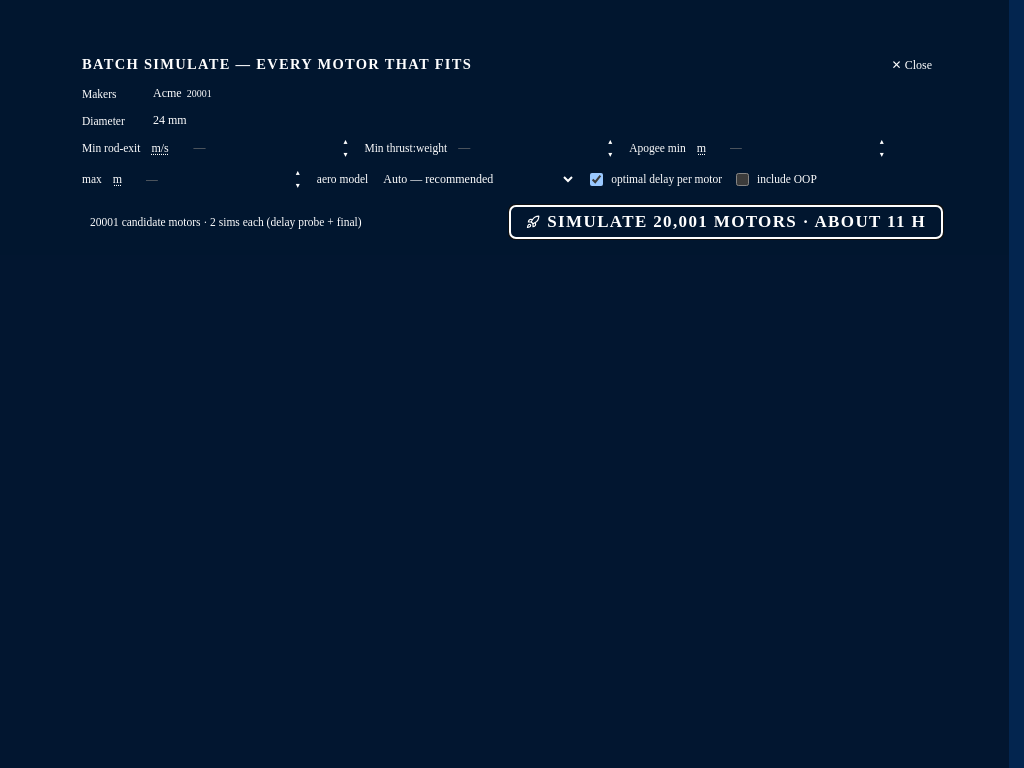
large batch confirmation › Cancel keeps settings, restores focus, and requires a fresh confirmation
Click the button with class "launch-btn" at (726, 222), box [510,206,942,238]
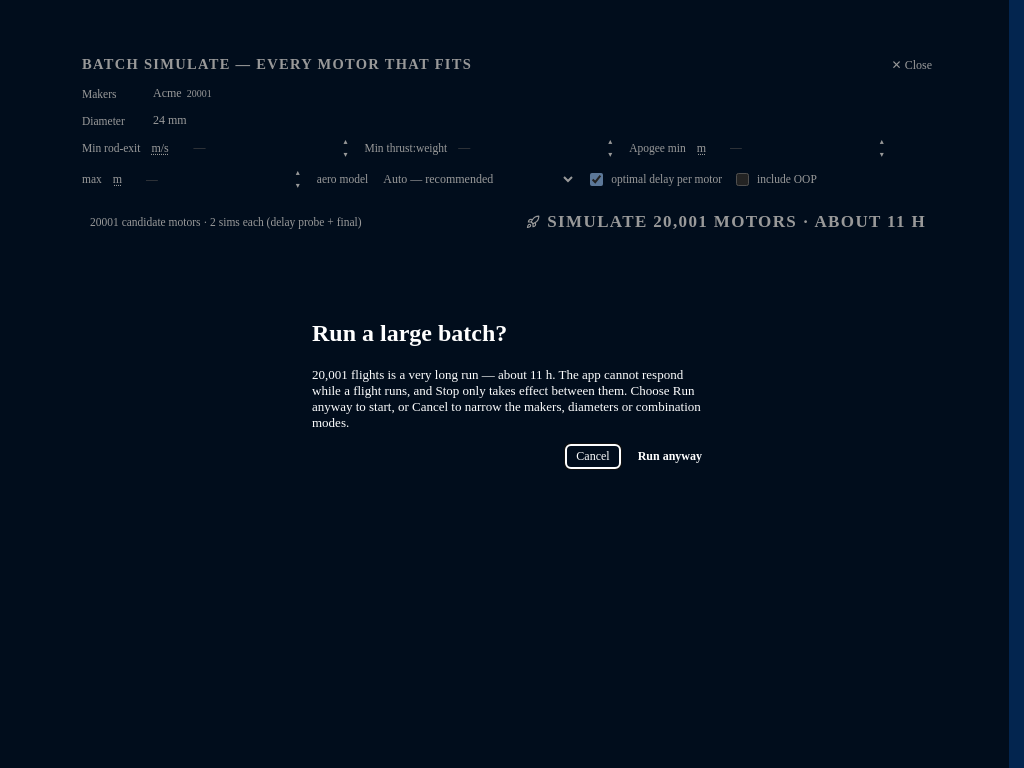
Click the button "Cancel" at (593, 456), box [566,445,620,468]
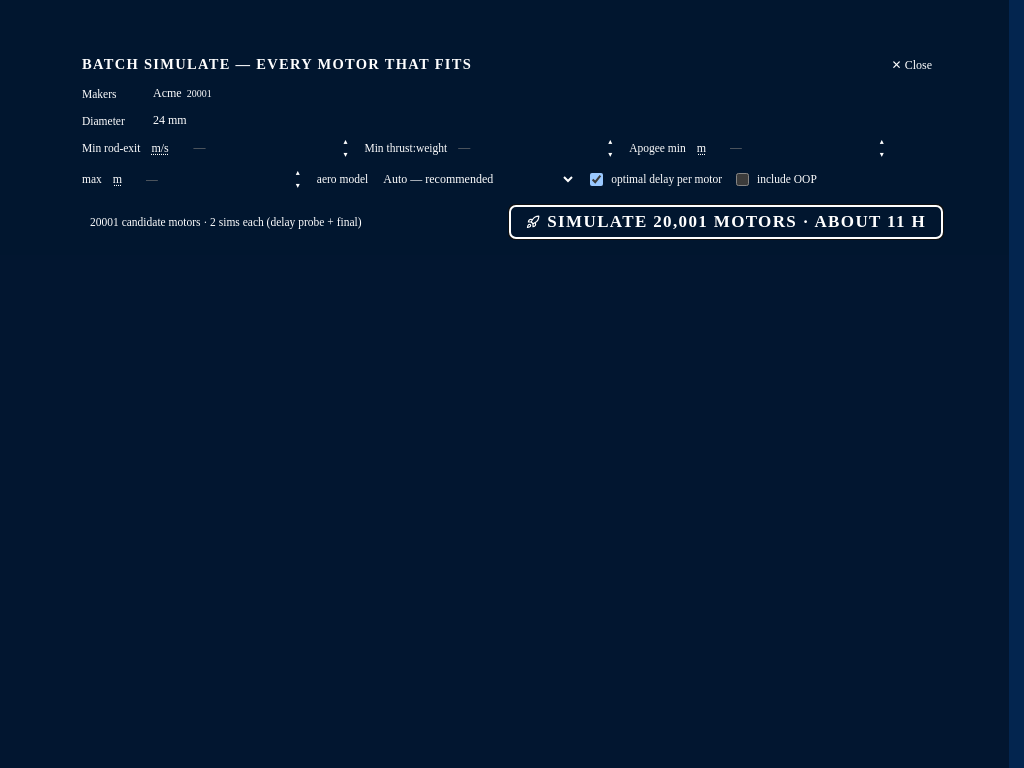
Click the button with class "launch-btn" at (726, 222), box [510,206,942,238]
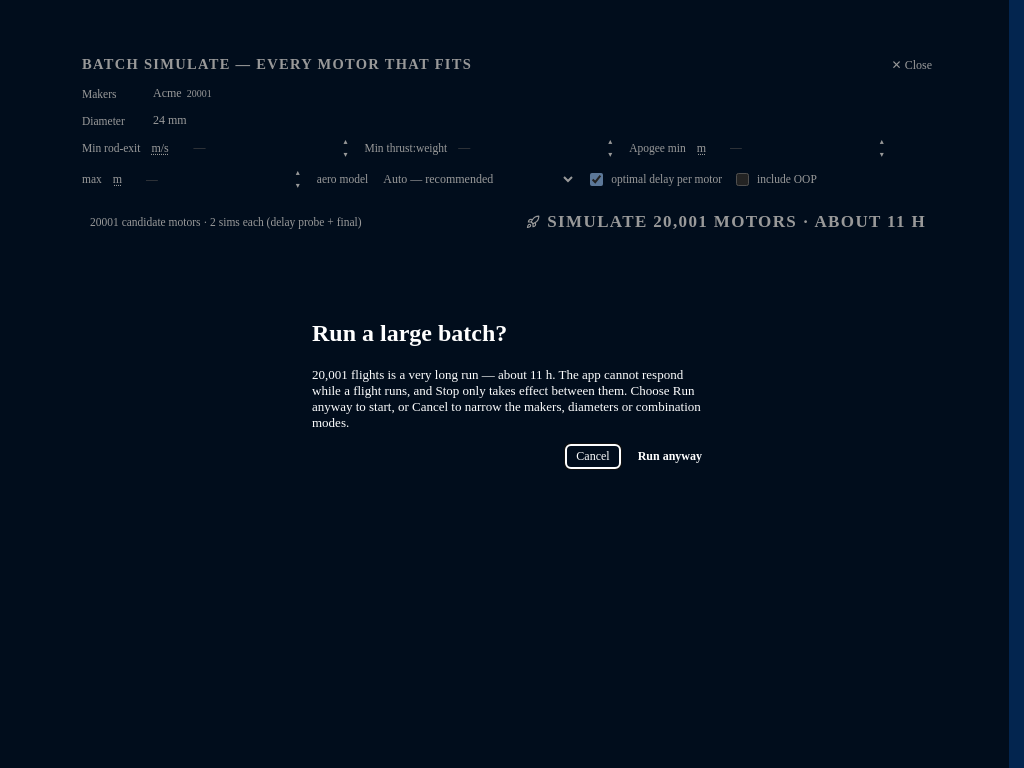
Expected: the dialog named "Run a large batch?" is shown, [292,282,732,486]
